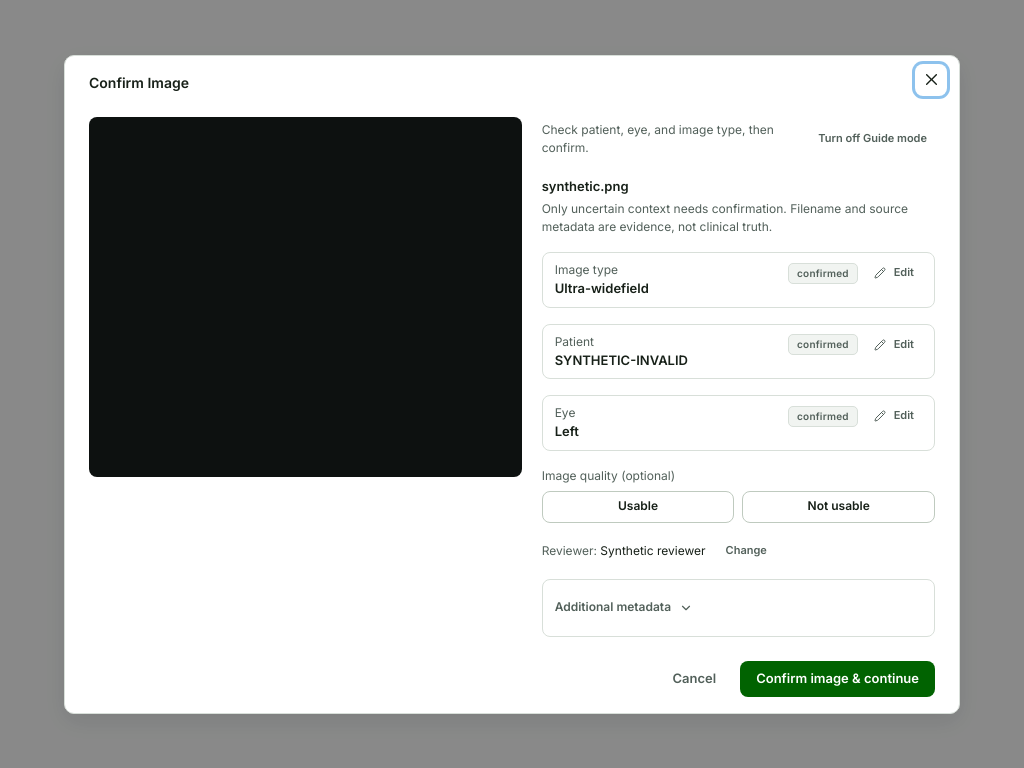
Test: Confirm Image error recovery › keeps unexpected exception details out of the clinician alert and retains entered values
Click the button with aria-label "Edit patient". click: {"x": 894, "y": 344}
box: top-left (866, 332), bottom-right (922, 356)
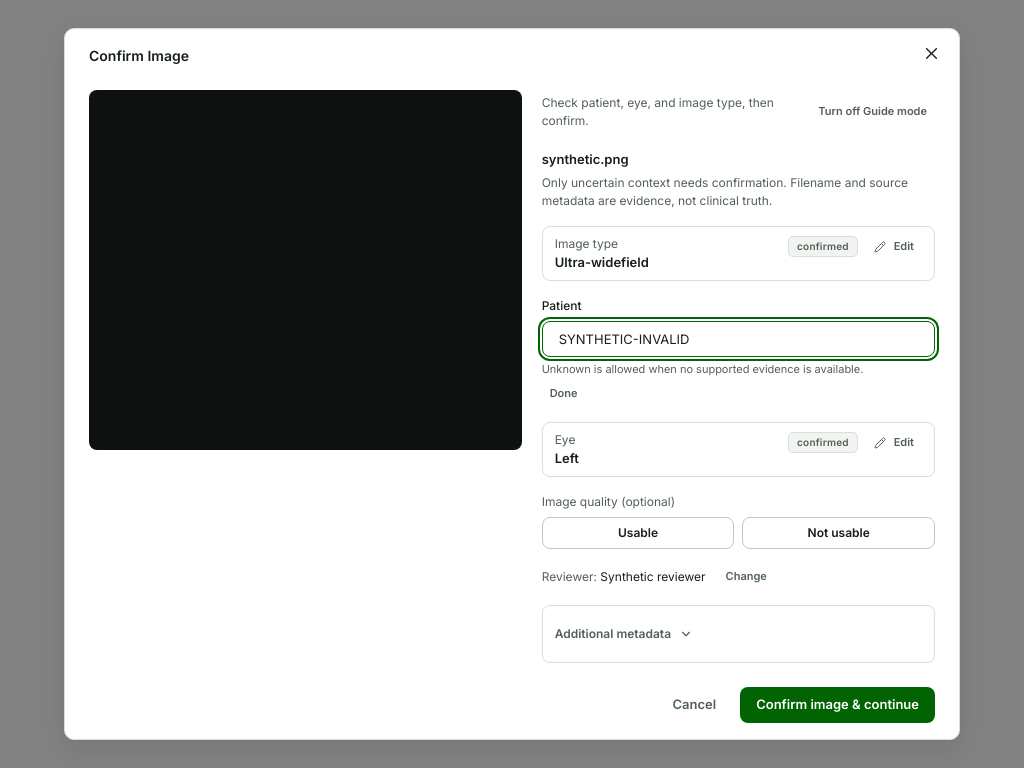
Replace the text in the field labelled "Patient" with "demo008". click: {"x": 738, "y": 339}
box: top-left (542, 321), bottom-right (935, 357)
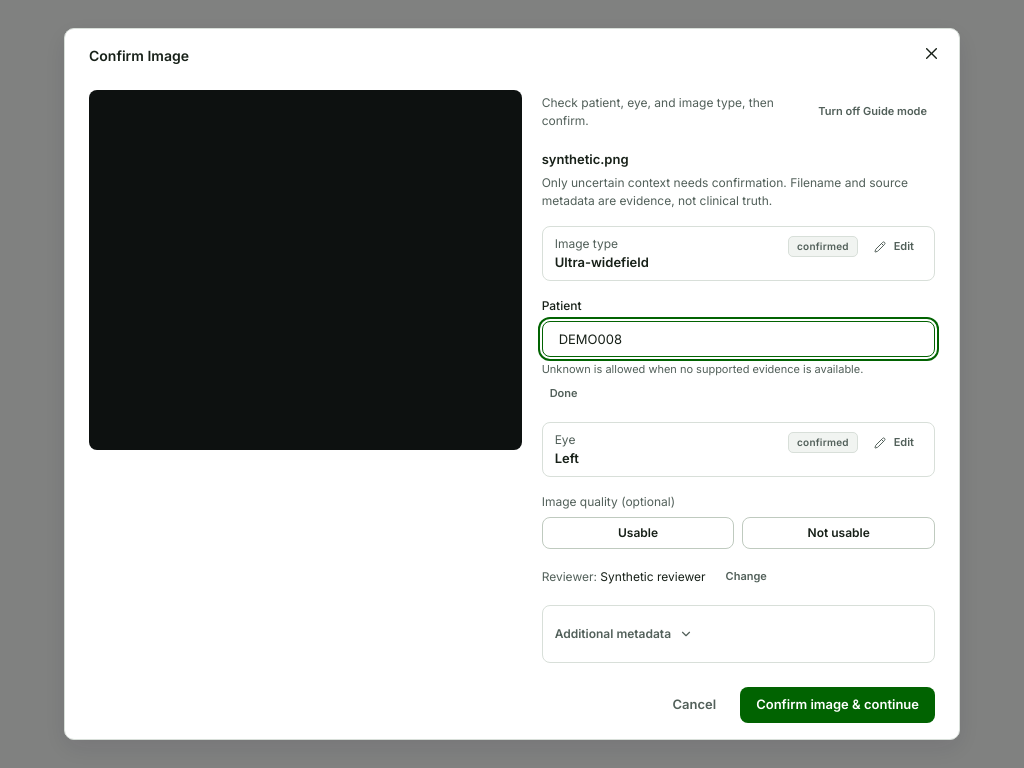
Click the button "Confirm image & continue". click: {"x": 838, "y": 705}
box: top-left (740, 687), bottom-right (935, 723)
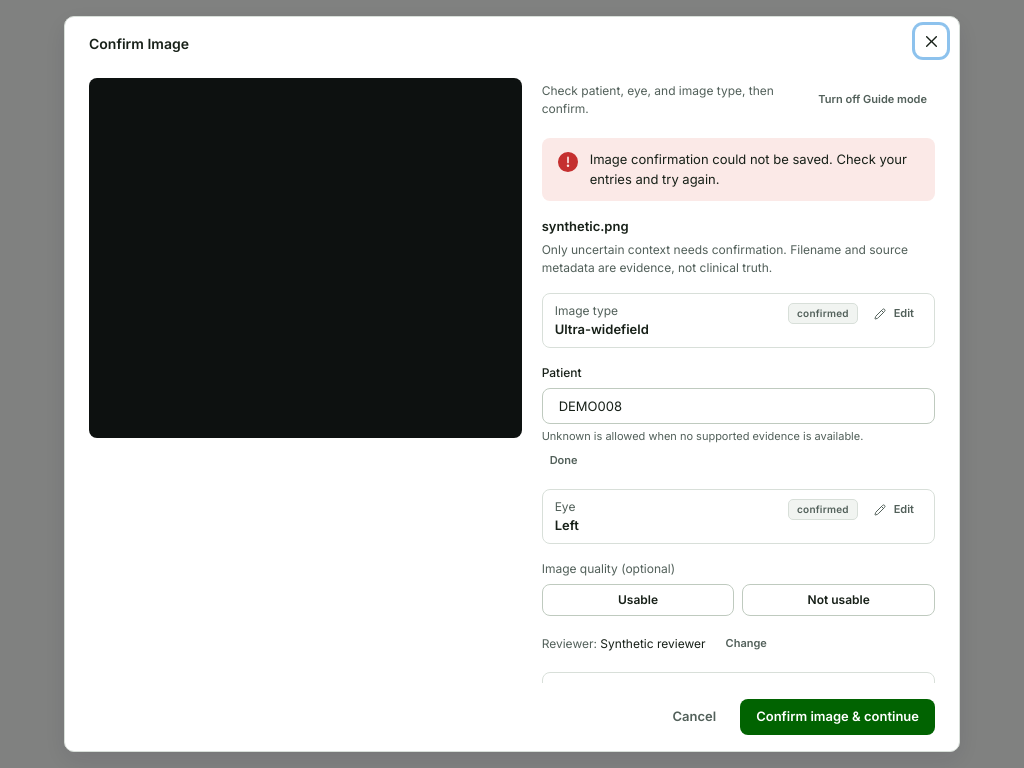
Result: the message reads "Image confirmation could not be saved. Check your entries and try again." at top-left (590, 151), bottom-right (907, 186)
